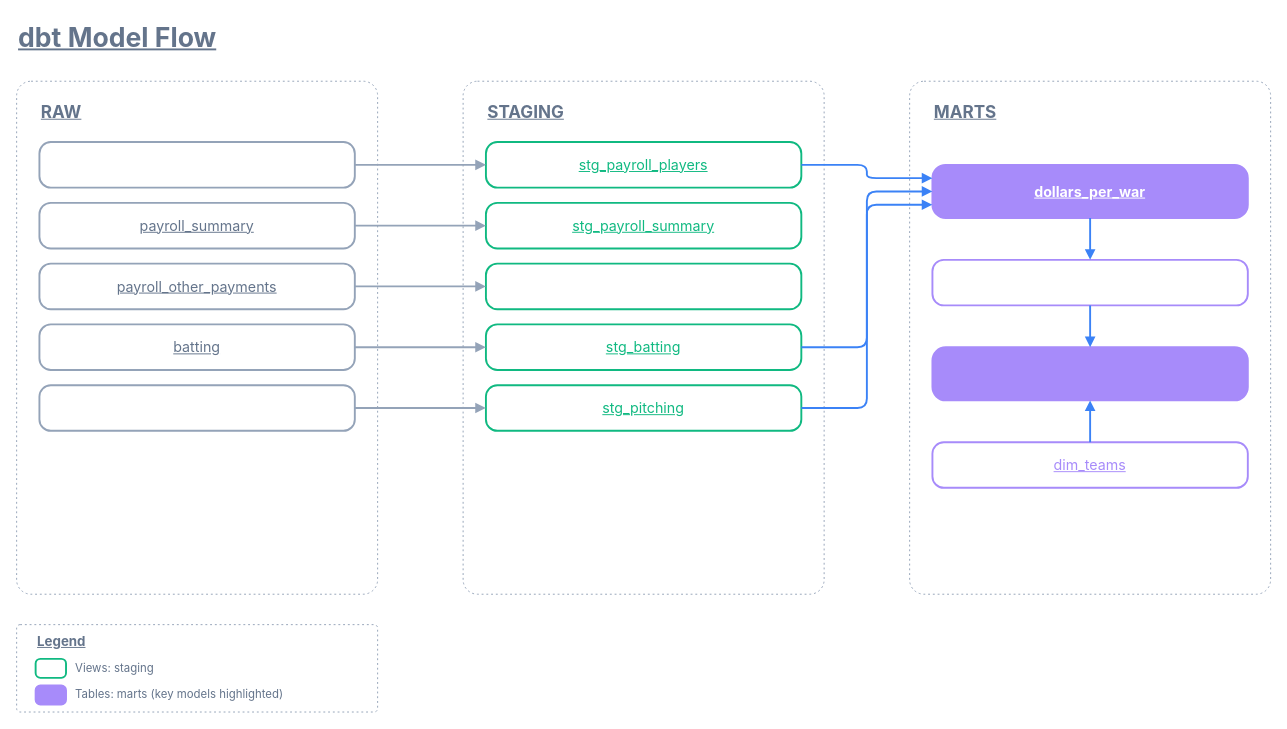
Some shapes in this 1287 by 729 pixel diagram are drawn without their labels. Each missing label, with the centre of its shape:
"dollars_per_war_qualified" belongs at point 1089,282.
"payroll_players" belongs at point 196,164.
"pitching" belongs at point 196,407.
"stg_payroll_other_payments" belongs at point 643,286.
"team_war_value" belongs at point 1089,373.
